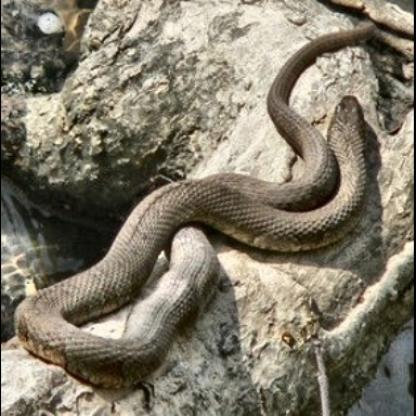Snake: (10, 16, 379, 393)
